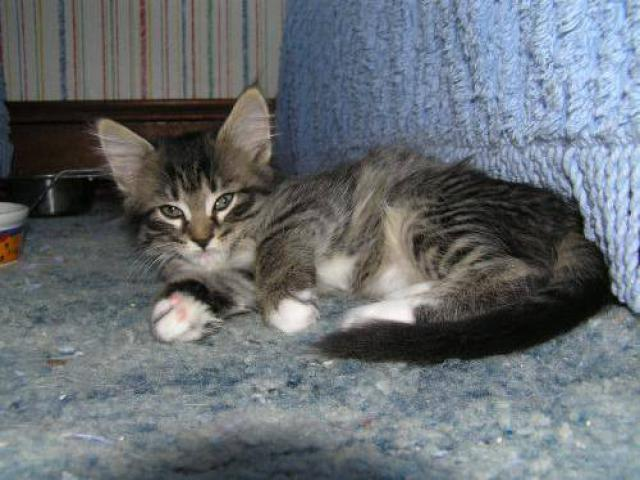cat: (90, 86, 620, 357)
